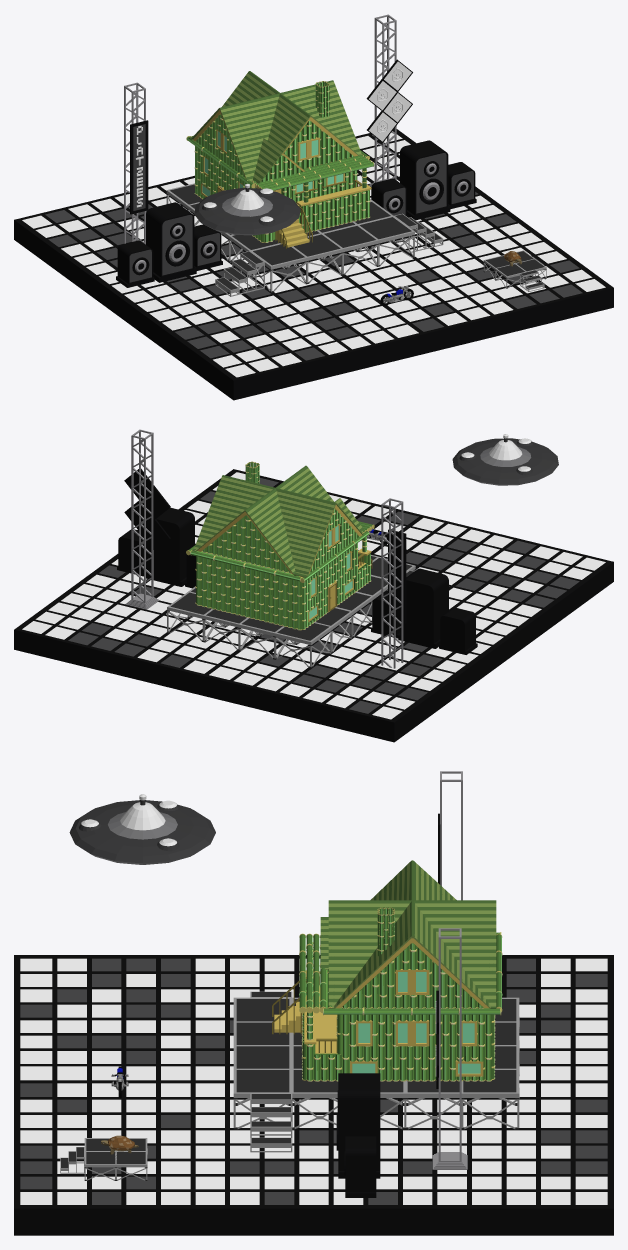
3 views of the same model, one above another, from view 1: azimuth 30°, elevation 25°; view 2: azimuth 150°, elevation 25°; view 3: azimuth 270°, elevation 25° (orthographic). The views are drawn at different scales.
Visible parts, largest first — view 1: Cube.008, Cube.1327, OBJRANDOM_UFO; view 2: Cube.008, Cube.1327, OBJRANDOM_UFO; view 3: Cube.008, Cube.1327, OBJRANDOM_UFO.
Boxes of the visible parts, left/top/right/bottom form: Cube.008: left=14, top=14, right=613, bottom=400; Cube.1327: left=186, top=71, right=374, bottom=248; OBJRANDOM_UFO: left=194, top=183, right=300, bottom=235; Cube.008: left=14, top=429, right=613, bottom=742; Cube.1327: left=186, top=461, right=374, bottom=630; OBJRANDOM_UFO: left=452, top=434, right=558, bottom=485; Cube.008: left=14, top=771, right=613, bottom=1235; Cube.1327: left=272, top=860, right=502, bottom=1081; OBJRANDOM_UFO: left=69, top=794, right=215, bottom=864.
Size of the model in its own units: 4000 by 1945 by 4000.
33 materials, 2 textured.
